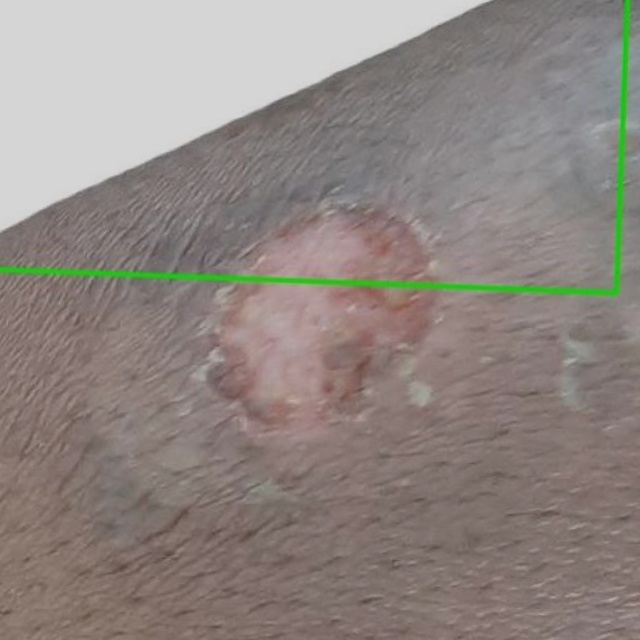Contact Dermatitis: (0, 0, 627, 292)
